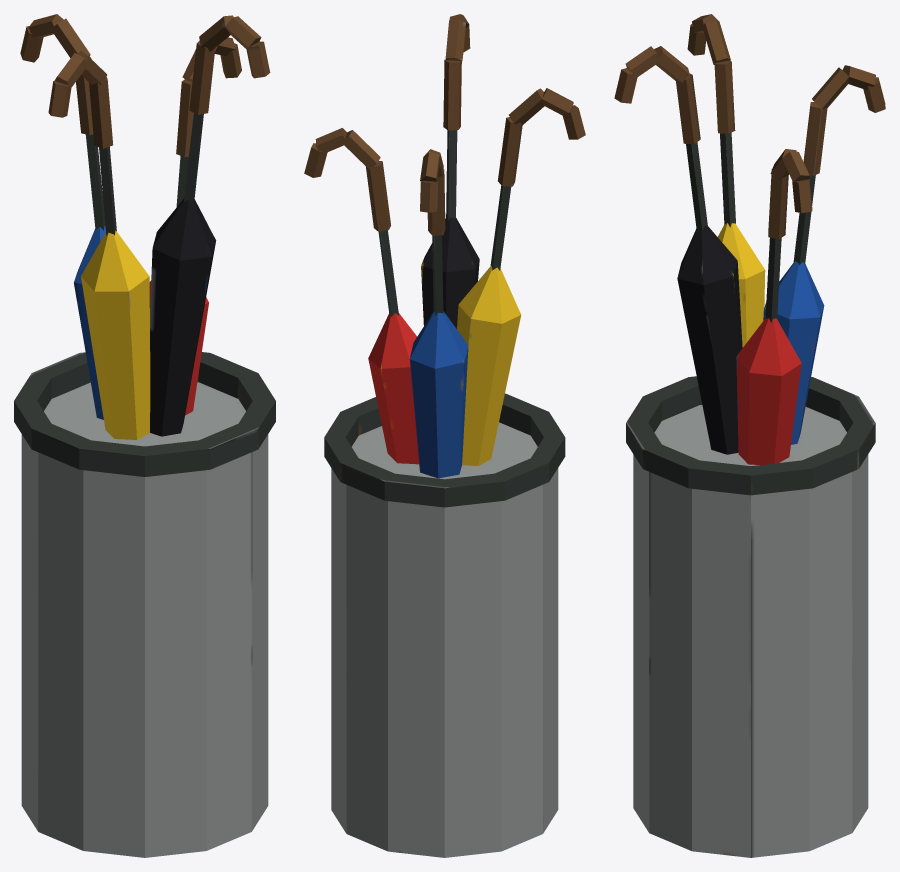
The model's file is stojan_destniku_b5ec556a.glb.
3 views of the same model, side by side, from view 1: azimuth 30°, elevation 25°; view 2: azimuth 150°, elevation 25°; view 3: azimuth 270°, elevation 25° (orthographic). The views are drawn at different scales.
Parts seen in each view (by area): view 1: dum; view 2: dum; view 3: dum.
Part boxes in pixels (x1,y1,x2,y2): dum: (14, 14, 275, 857); dum: (304, 14, 585, 857); dum: (614, 14, 885, 857).
Size of the model in its own units: 0.3698 by 1.17 by 0.3687.
Materials: 1 (1 with a texture image).
